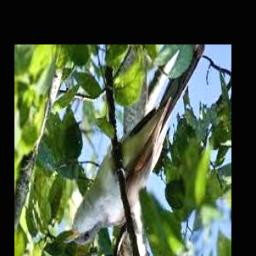Cuckoo: (64, 44, 206, 246)
